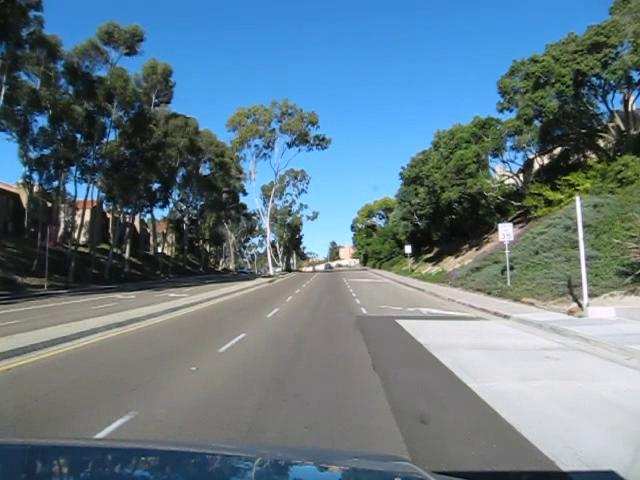speedLimit35: (497, 221, 514, 241)
